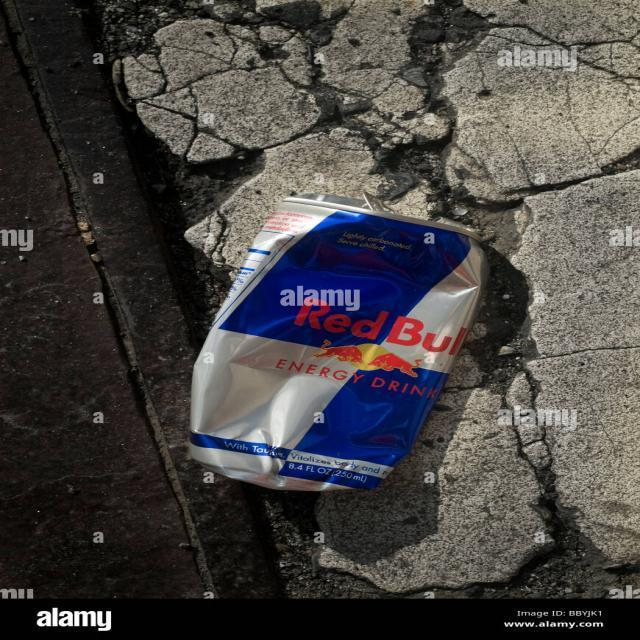metal-can: (184, 198, 483, 492)
